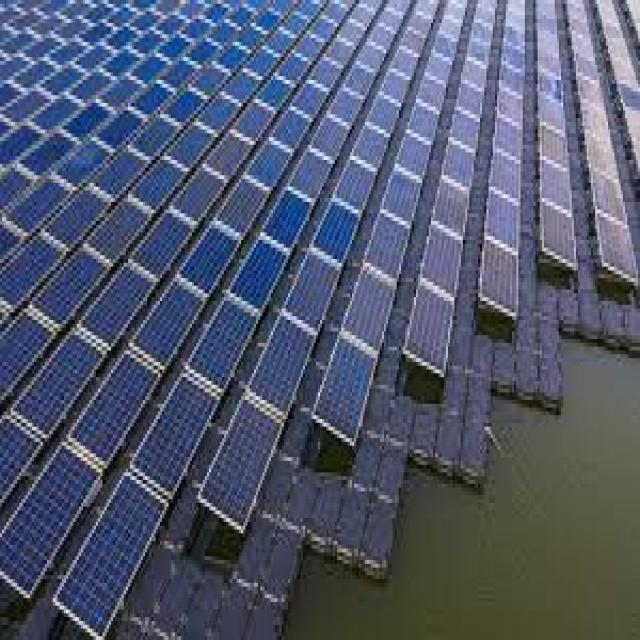clean-solar-panel: (232, 239, 286, 308), (183, 225, 236, 292), (315, 201, 358, 261), (264, 192, 309, 246), (171, 92, 202, 123)
